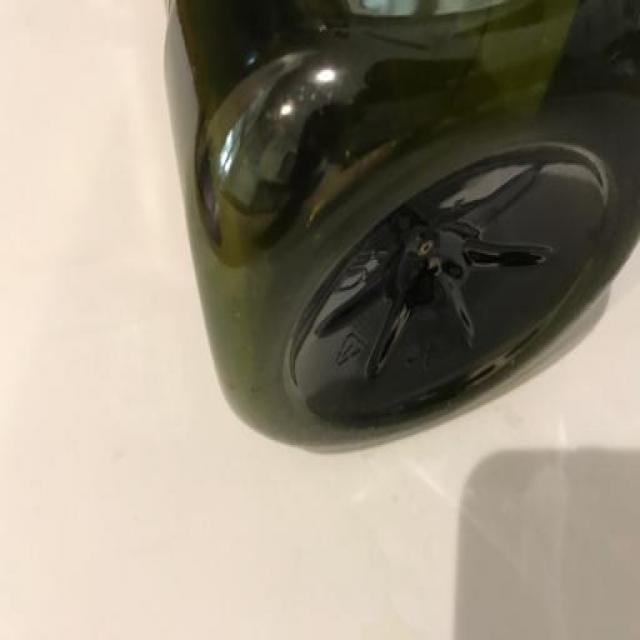plastic_bottle: (131, 1, 640, 456)
